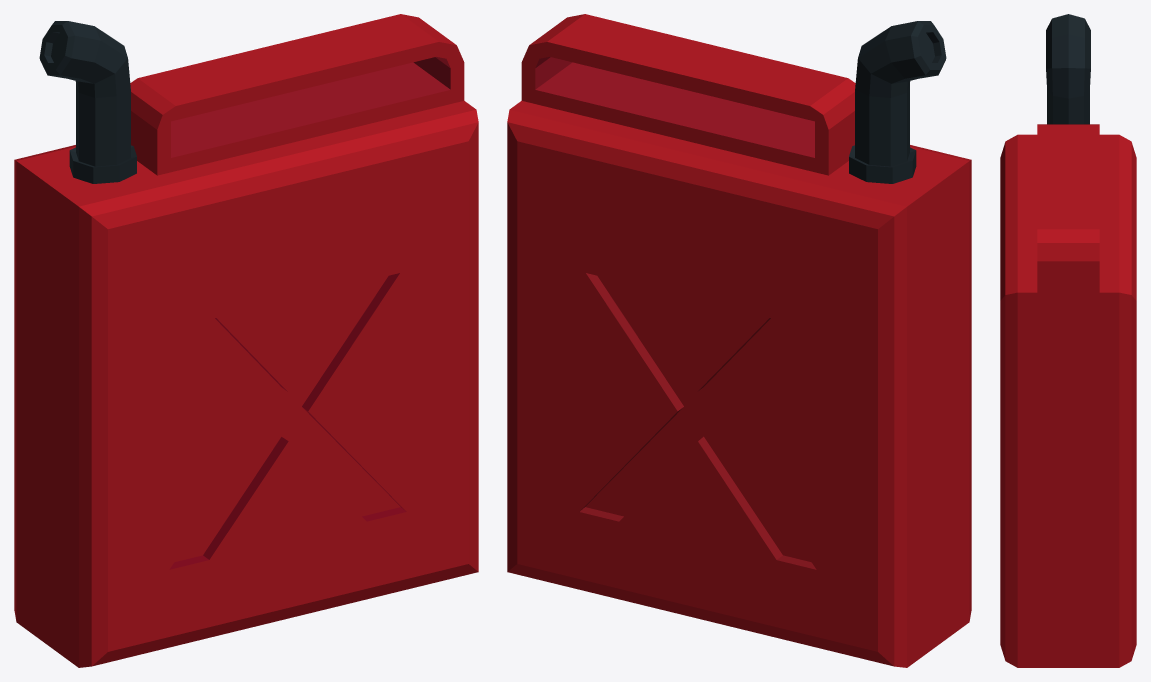
Rendered from gas_can.fbx.
3 views of the same model, side by side, from view 1: azimuth 30°, elevation 25°; view 2: azimuth 150°, elevation 25°; view 3: azimuth 270°, elevation 25° (orthographic). The views are drawn at different scales.
Parts seen in each view (by area): view 1: gas_can; view 2: gas_can; view 3: gas_can.
Boxes of the visible parts, <box> form: gas_can: <box>14,14,478,667</box>; gas_can: <box>507,14,971,667</box>; gas_can: <box>1000,14,1136,667</box>.
Size of the model in its own units: 201 by 298 by 72.91.
